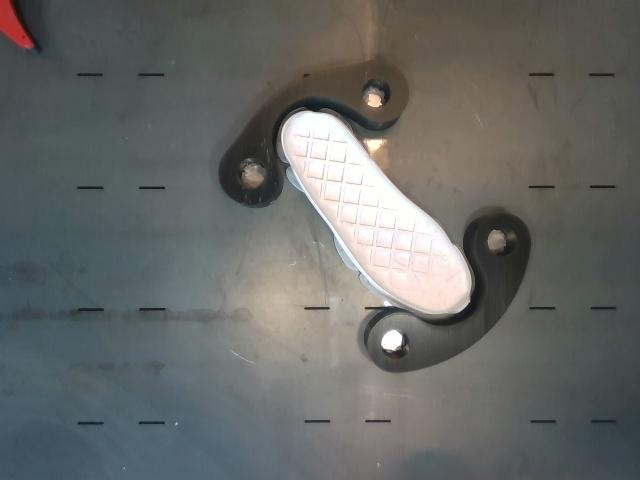shoes: (283, 111, 471, 313)
